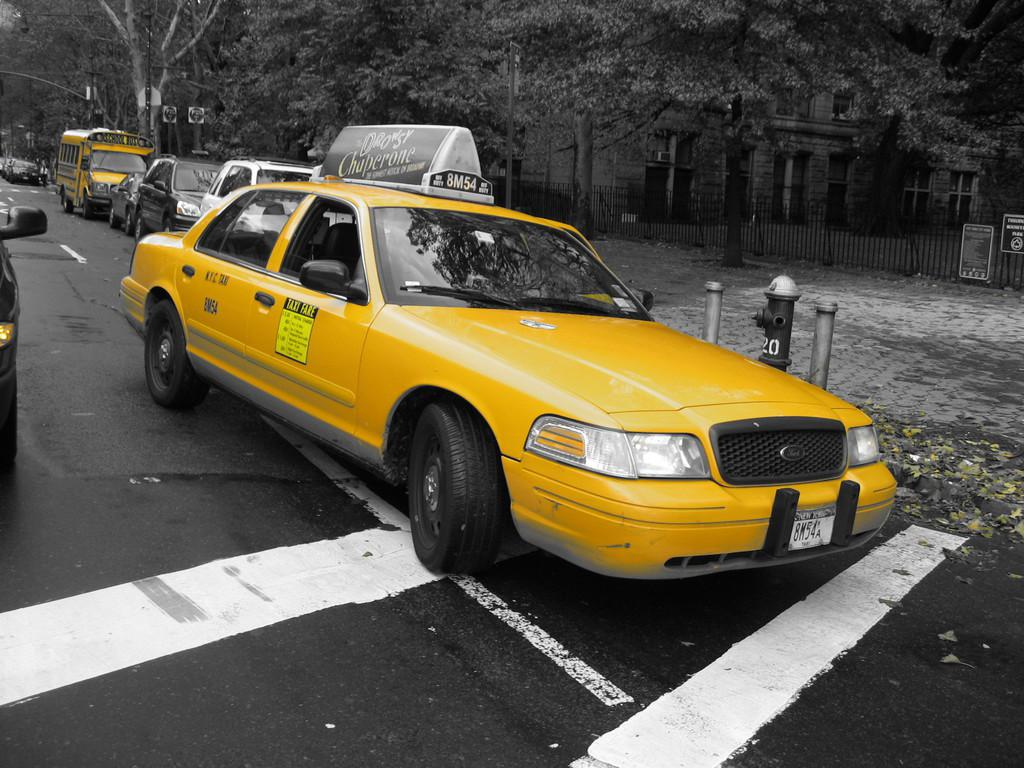taxi: (120, 125, 898, 580)
